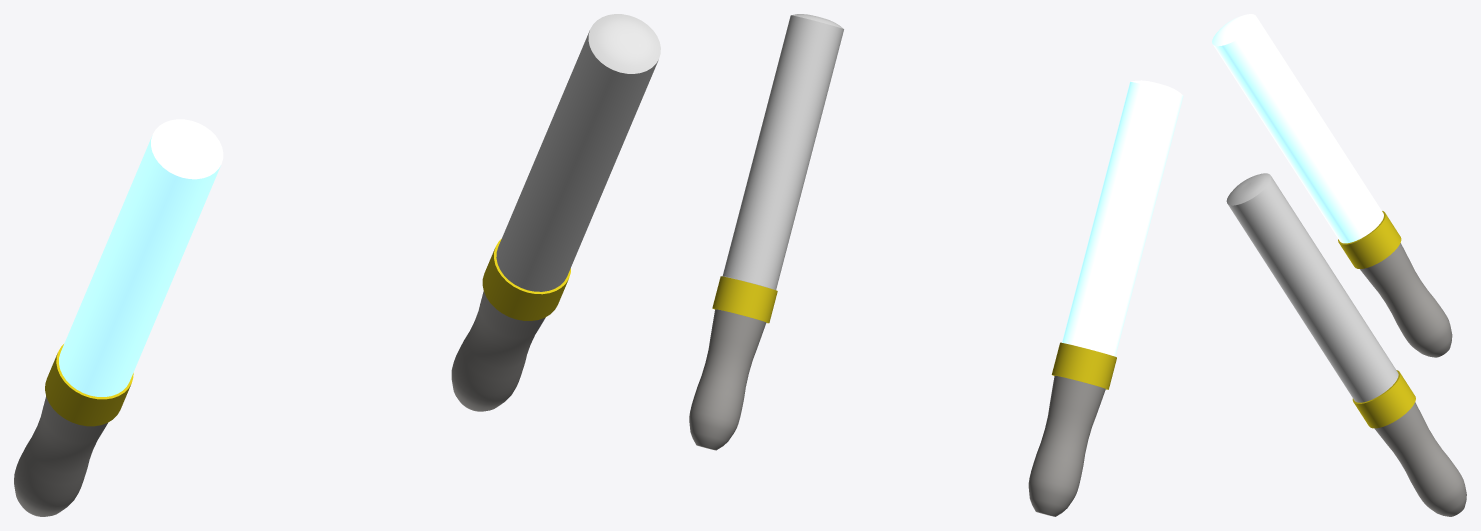
Rendered from blademove.fbx.
3 renders of one model, left to right at view 1: azimuth 30°, elevation 25°; view 2: azimuth 150°, elevation 25°; view 3: azimuth 270°, elevation 25°, orthographic. The views are drawn at different scales.
Visible parts, largest first — view 1: 실린더, 실린더.001; view 2: 실린더.001, 실린더; view 3: 실린더, 실린더.001.
Part boxes in pixels (x1=…): 실린더: x1=451, y1=14, x2=660, y2=411; 실린더.001: x1=14, y1=119, x2=223, y2=516; 실린더.001: x1=1028, y1=80, x2=1183, y2=516; 실린더: x1=689, y1=14, x2=843, y2=450; 실린더: x1=1226, y1=173, x2=1466, y2=516; 실린더.001: x1=1212, y1=14, x2=1452, y2=357.
Bounding box in the file's own units: 2389 × 2208 × 1474.
